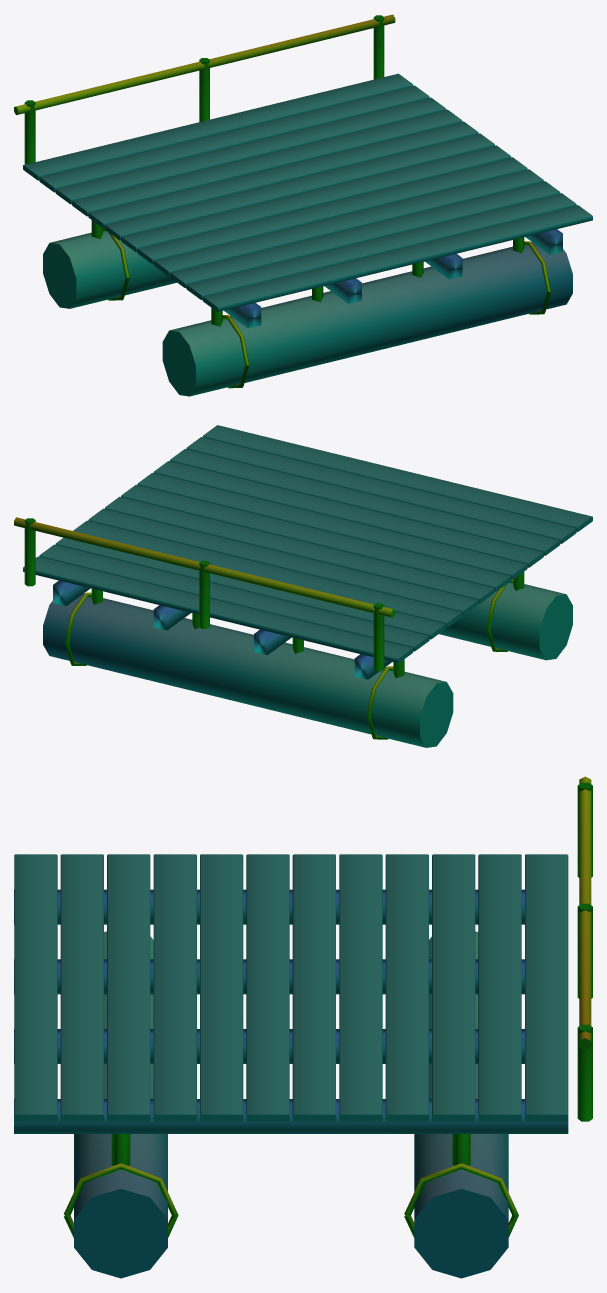
The model's file is hm_dock_4m_open_s.glb.
The picture shows the model from 3 angles, top to bottom: view 1: azimuth 30°, elevation 25°; view 2: azimuth 150°, elevation 25°; view 3: azimuth 270°, elevation 25°; orthographic projection. The views are drawn at different scales.
Visible parts, largest first — view 1: hm_dock_4m_open_s; view 2: hm_dock_4m_open_s; view 3: hm_dock_4m_open_s.
Part boxes in pixels (x1,y1,x2,y2): hm_dock_4m_open_s: [14, 14, 592, 396]; hm_dock_4m_open_s: [14, 425, 592, 747]; hm_dock_4m_open_s: [14, 776, 592, 1278].
Size of what is drawn, in the model's own units: 4 by 1.77 by 3.74.
